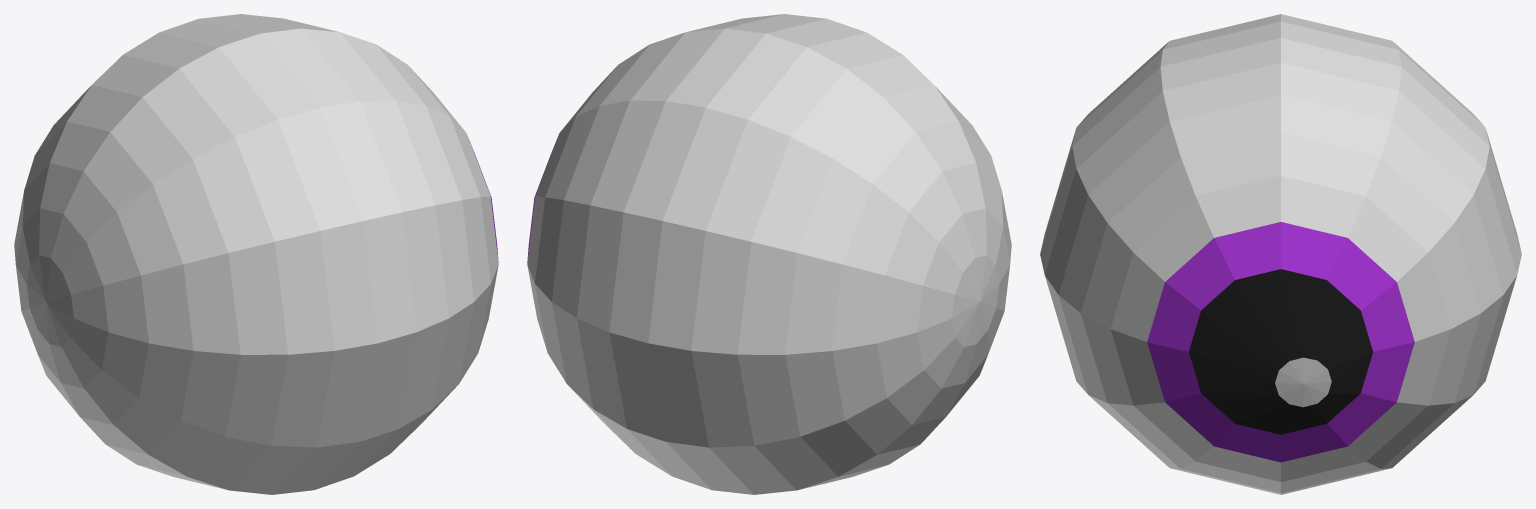
The model's file is Ingredient4.fbx.
3 views of the same model, side by side, from view 1: azimuth 30°, elevation 25°; view 2: azimuth 150°, elevation 25°; view 3: azimuth 270°, elevation 25° (orthographic).
Visible parts, largest first — view 1: EyeBall; view 2: EyeBall; view 3: EyeBall.
Boxes of the visible parts, x1,y1,x2,y2 form: EyeBall: (14, 14, 498, 494); EyeBall: (527, 14, 1011, 494); EyeBall: (1040, 14, 1521, 494).
Size of the model in its own units: 61.81 by 62.08 by 62.09.
